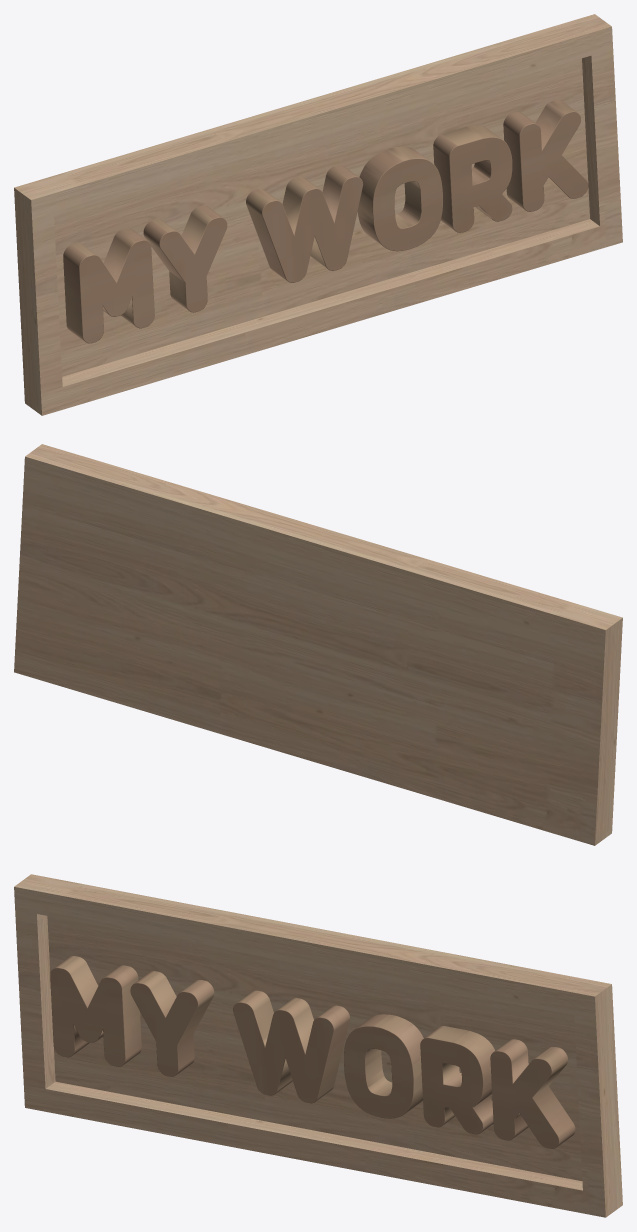
The model's file is signWork.glb.
3 renders of one model, top to bottom at view 1: azimuth 30°, elevation 25°; view 2: azimuth 150°, elevation 25°; view 3: azimuth 330°, elevation 25°, orthographic.
Visible parts, largest first — view 1: signage_work; view 2: signage_work; view 3: signage_work.
Boxes of the visible parts, <box> form: signage_work: <box>14,14,622,415</box>; signage_work: <box>14,444,622,845</box>; signage_work: <box>14,874,622,1217</box>.
Bounding box in the file's own units: 0.8007 × 0.3236 × 0.0545.
Materials: 1 (1 with a texture image).
